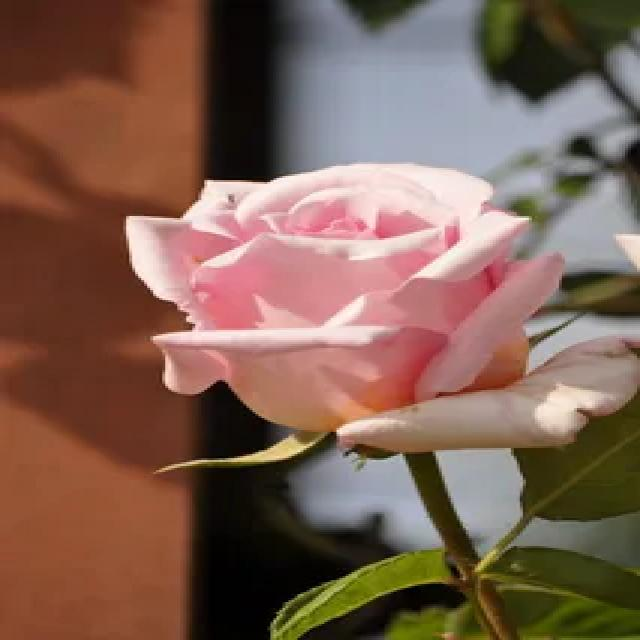rose: (98, 148, 640, 456)
